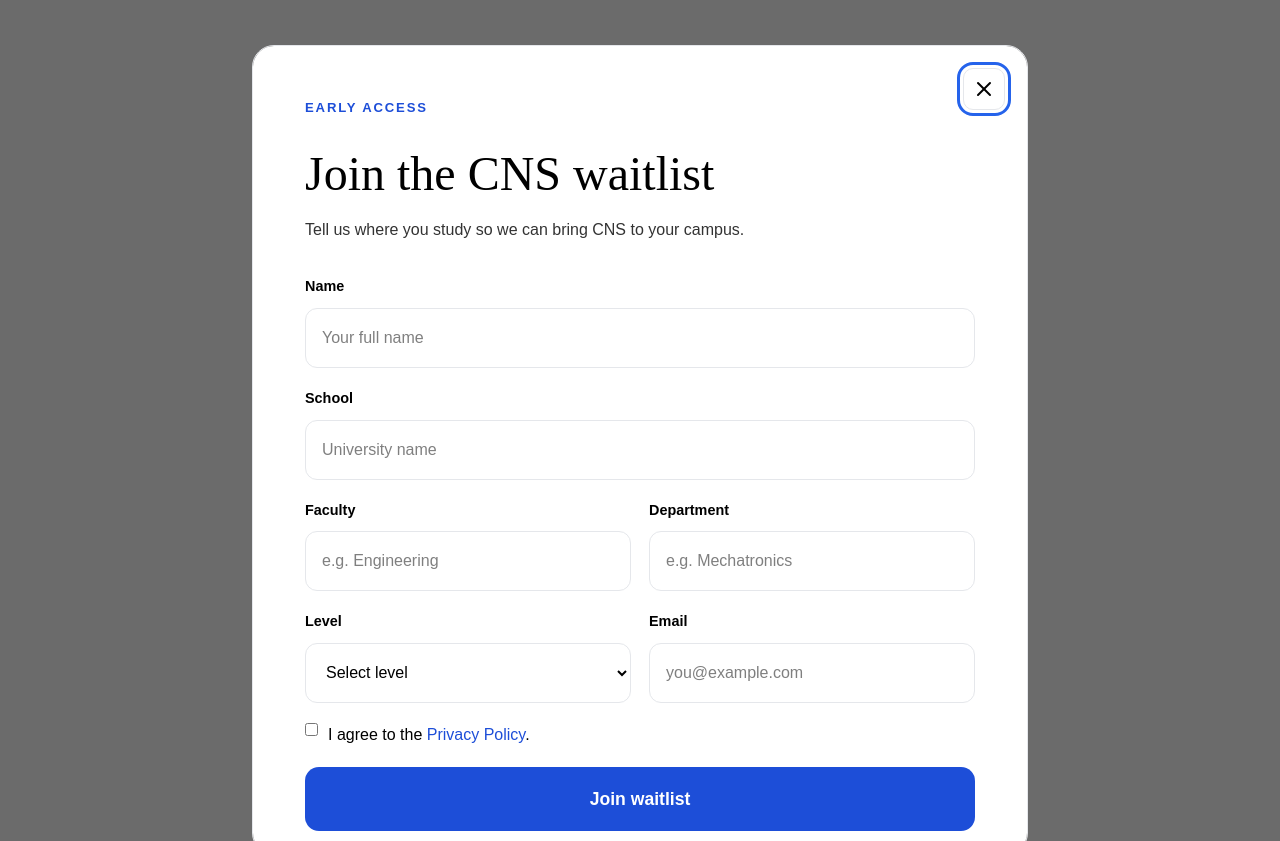
waitlist dialog › shows an unavailable message if the API is missing
In the field labelled "Name": coordinates (640, 338) [305, 308, 975, 368], type "Example"
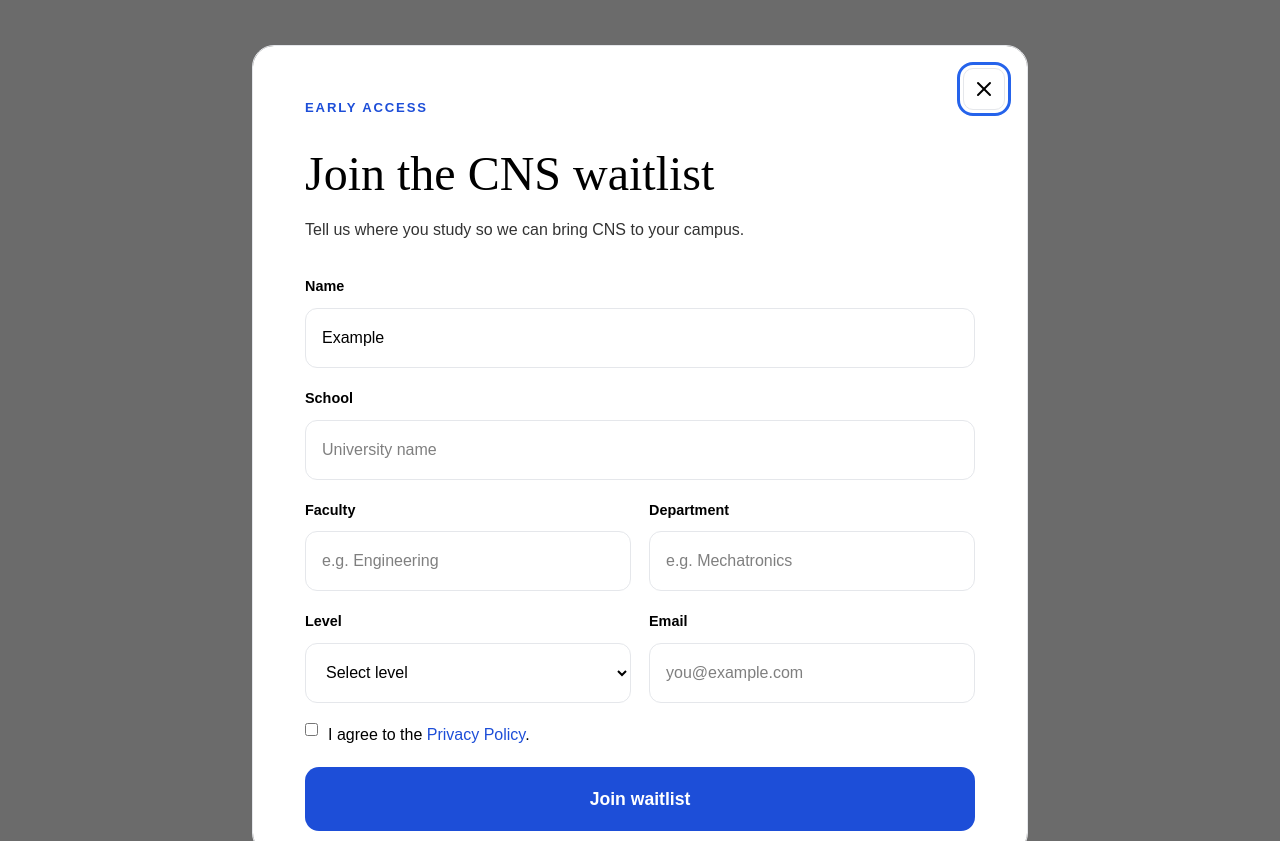
Submit the form, box [305, 276, 975, 831]
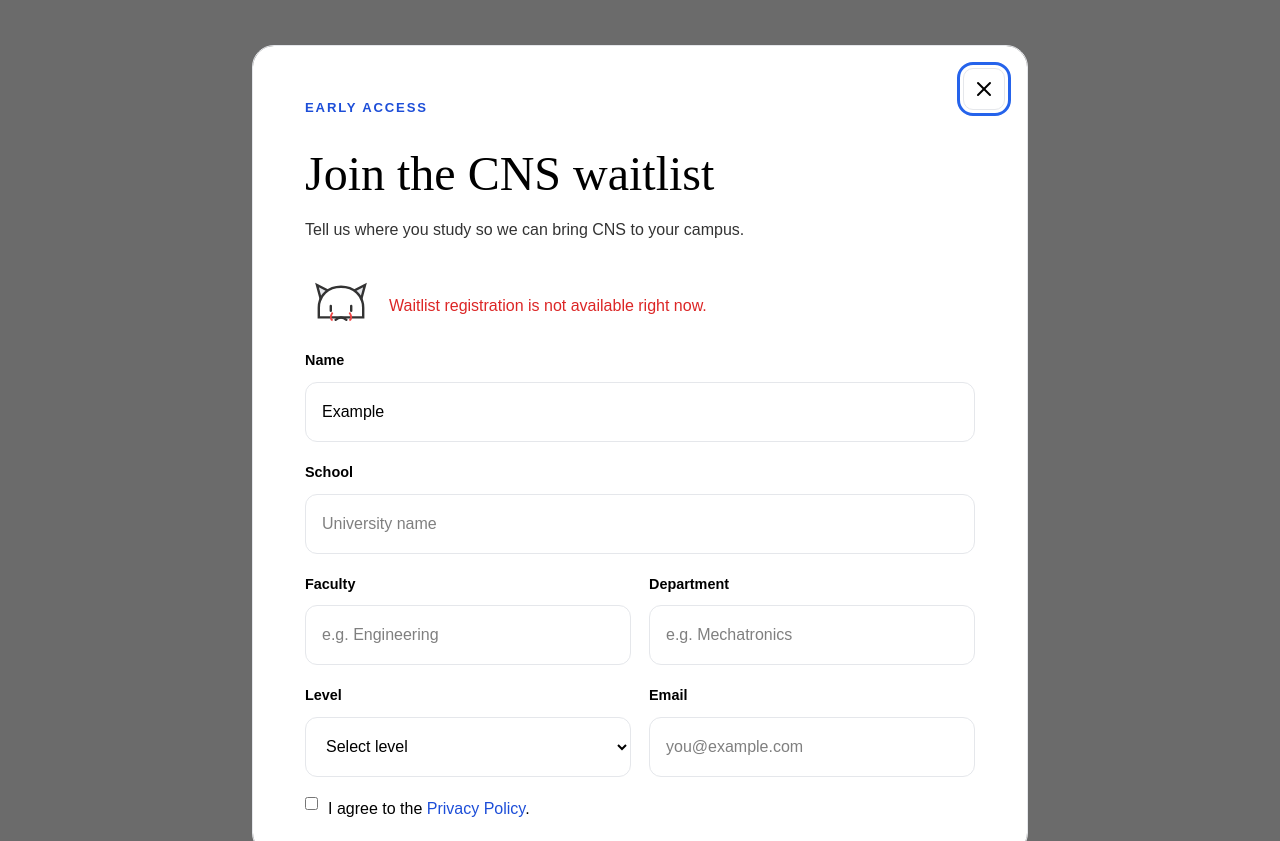
expect the message shows "Waitlist registration is not available": met, box [389, 298, 707, 314]
